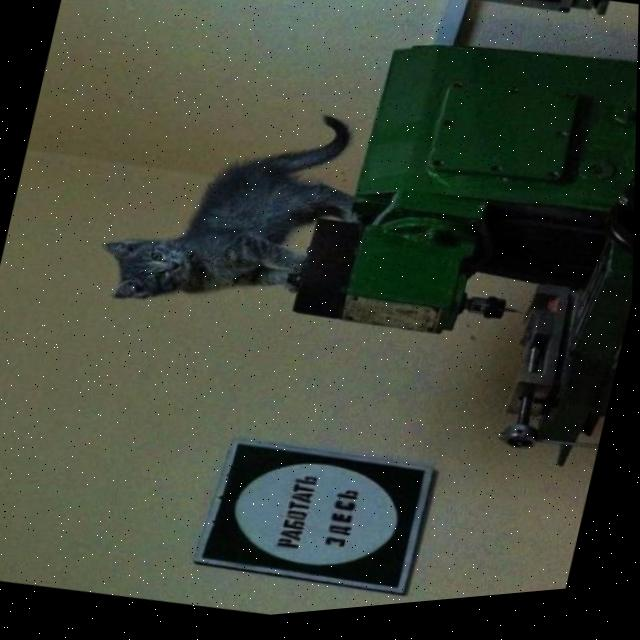Cats: (90, 68, 379, 348)
